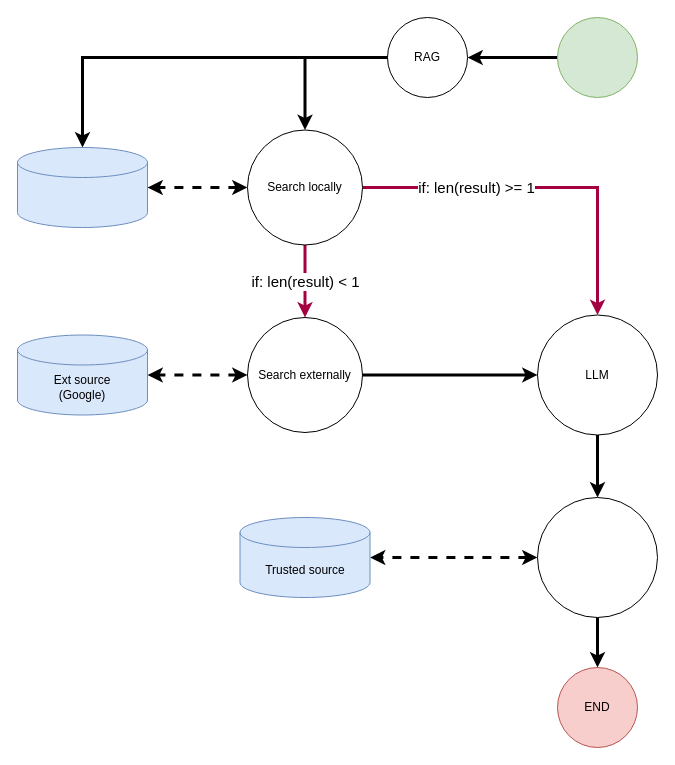
Image size: 675x765. Some labels were removed from this diagram. The shapes that lost their labels are listed below. From the top down, each one's centre as x and y in pixels, then its label:
point (597, 57): START
point (82, 187): internal source (uploaded file)
point (597, 557): Guardrail / Fact checker (LLM)
